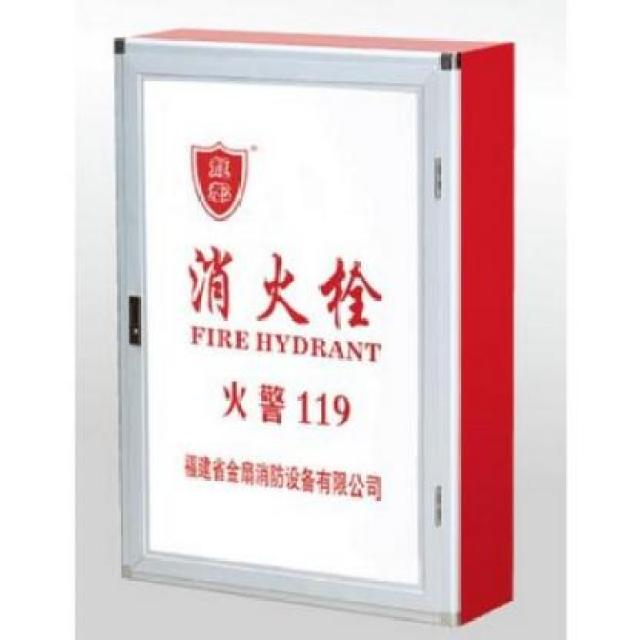firehydrant: (109, 23, 522, 632)
